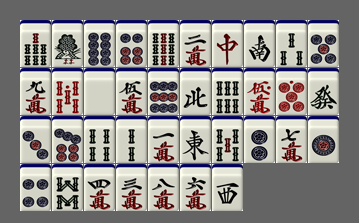0m: (244, 68, 275, 115)
0p: (276, 68, 307, 115)
0s: (52, 68, 83, 115)
1m: (148, 116, 179, 163)
1p: (308, 116, 339, 163)
1s: (52, 20, 83, 67)
1z: (180, 116, 211, 163)
2m: (180, 20, 211, 67)
2p: (244, 116, 275, 163)
2s: (116, 116, 147, 163)
2z: (244, 20, 275, 67)
3m: (116, 164, 147, 211)
3p: (20, 116, 51, 163)
3s: (276, 20, 307, 67)
3z: (212, 164, 243, 211)
4m: (84, 164, 115, 211)
4p: (20, 164, 51, 211)
4s: (84, 116, 115, 163)
4z: (180, 68, 211, 115)
5m: (116, 68, 147, 115)
5p: (308, 20, 339, 67)
5s: (212, 116, 243, 163)
5z: (84, 68, 115, 115)
6m: (180, 164, 211, 211)
6p: (116, 20, 147, 67)
6s: (212, 68, 243, 115)
6z: (308, 68, 339, 115)
7m: (276, 116, 307, 163)
7p: (52, 116, 83, 163)
7s: (20, 20, 51, 67)
7z: (212, 20, 243, 67)
8m: (148, 164, 179, 211)
8p: (84, 20, 115, 67)
8s: (52, 164, 83, 211)
9m: (20, 68, 51, 115)
9p: (148, 68, 179, 115)
9s: (148, 20, 179, 67)
